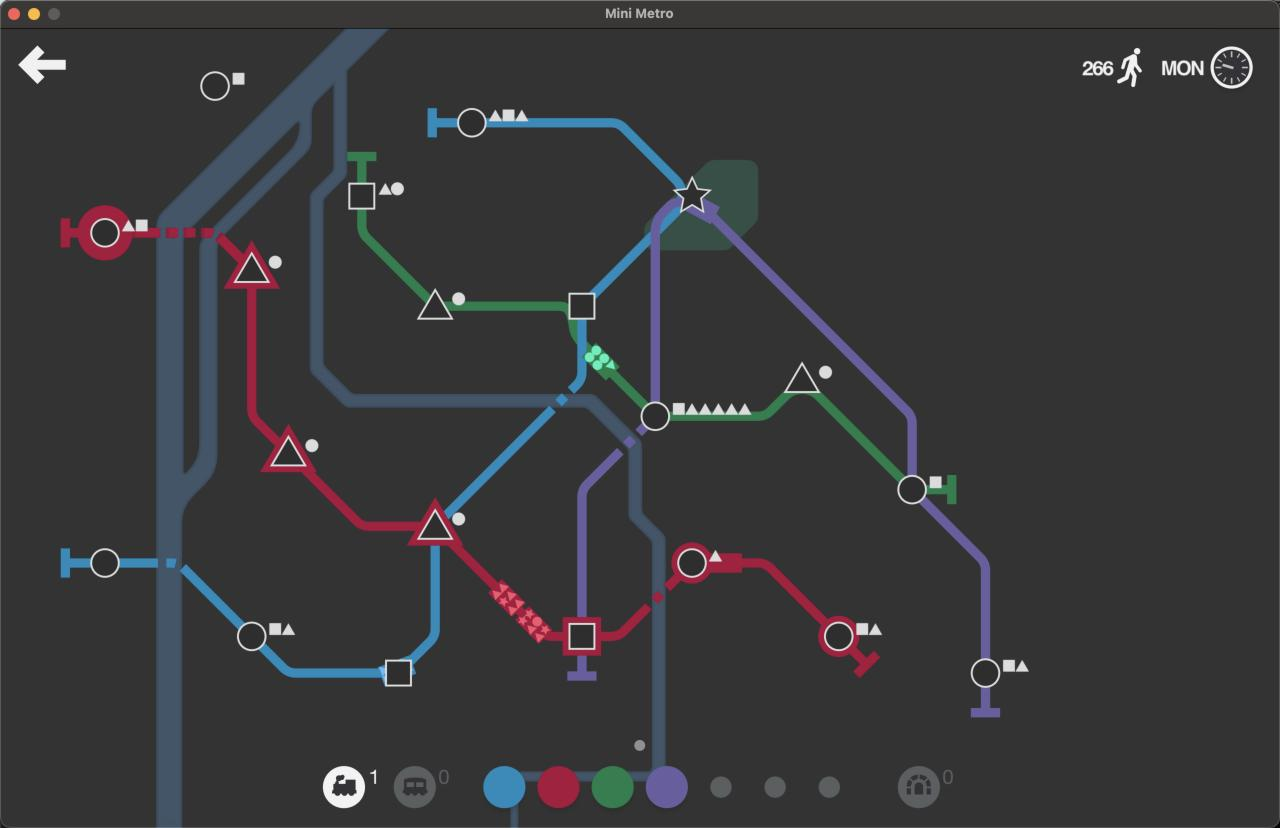CIRCLE: (671, 541, 712, 583), (821, 618, 856, 655), (236, 620, 267, 652), (897, 474, 928, 506), (640, 400, 671, 432), (199, 70, 230, 102), (456, 107, 487, 138), (970, 657, 1000, 689), (90, 547, 120, 578), (90, 217, 120, 248)
SQUARE: (563, 617, 602, 656), (381, 659, 415, 688), (347, 182, 377, 211), (568, 291, 597, 320)
STAR: (674, 176, 711, 213)
TRIANGLE: (223, 244, 281, 291), (406, 500, 461, 547), (266, 430, 310, 470), (415, 287, 455, 321), (783, 361, 821, 395)
